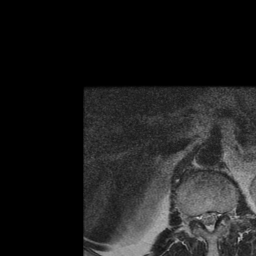CCS_normal: (206, 204, 213, 239)
LFS_severe_stenosis: (221, 201, 227, 225)
LLS_normal: (213, 203, 221, 229)
RFS_stenosis: (190, 206, 198, 228)
RLS_normal: (198, 205, 206, 232)
